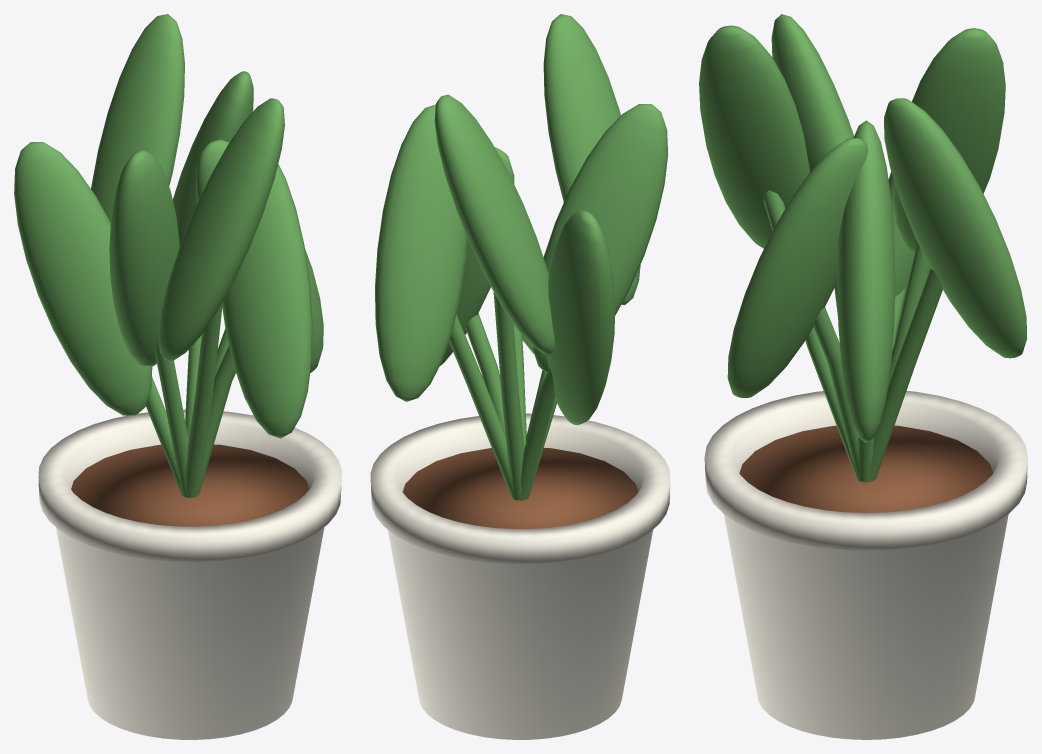
File: PLANT.glb
3 views of the same model, side by side, from view 1: azimuth 30°, elevation 25°; view 2: azimuth 150°, elevation 25°; view 3: azimuth 270°, elevation 25° (orthographic). The views are drawn at different scales.
Visible parts, largest first — view 1: PLANT; view 2: PLANT; view 3: PLANT.
Boxes of the visible parts, box(x1,y1,x2,y2) form: PLANT: box(14, 14, 341, 739); PLANT: box(370, 14, 670, 739); PLANT: box(699, 14, 1027, 739).
Bounding box in the file's own units: 0.3404 × 0.7876 × 0.3459.
